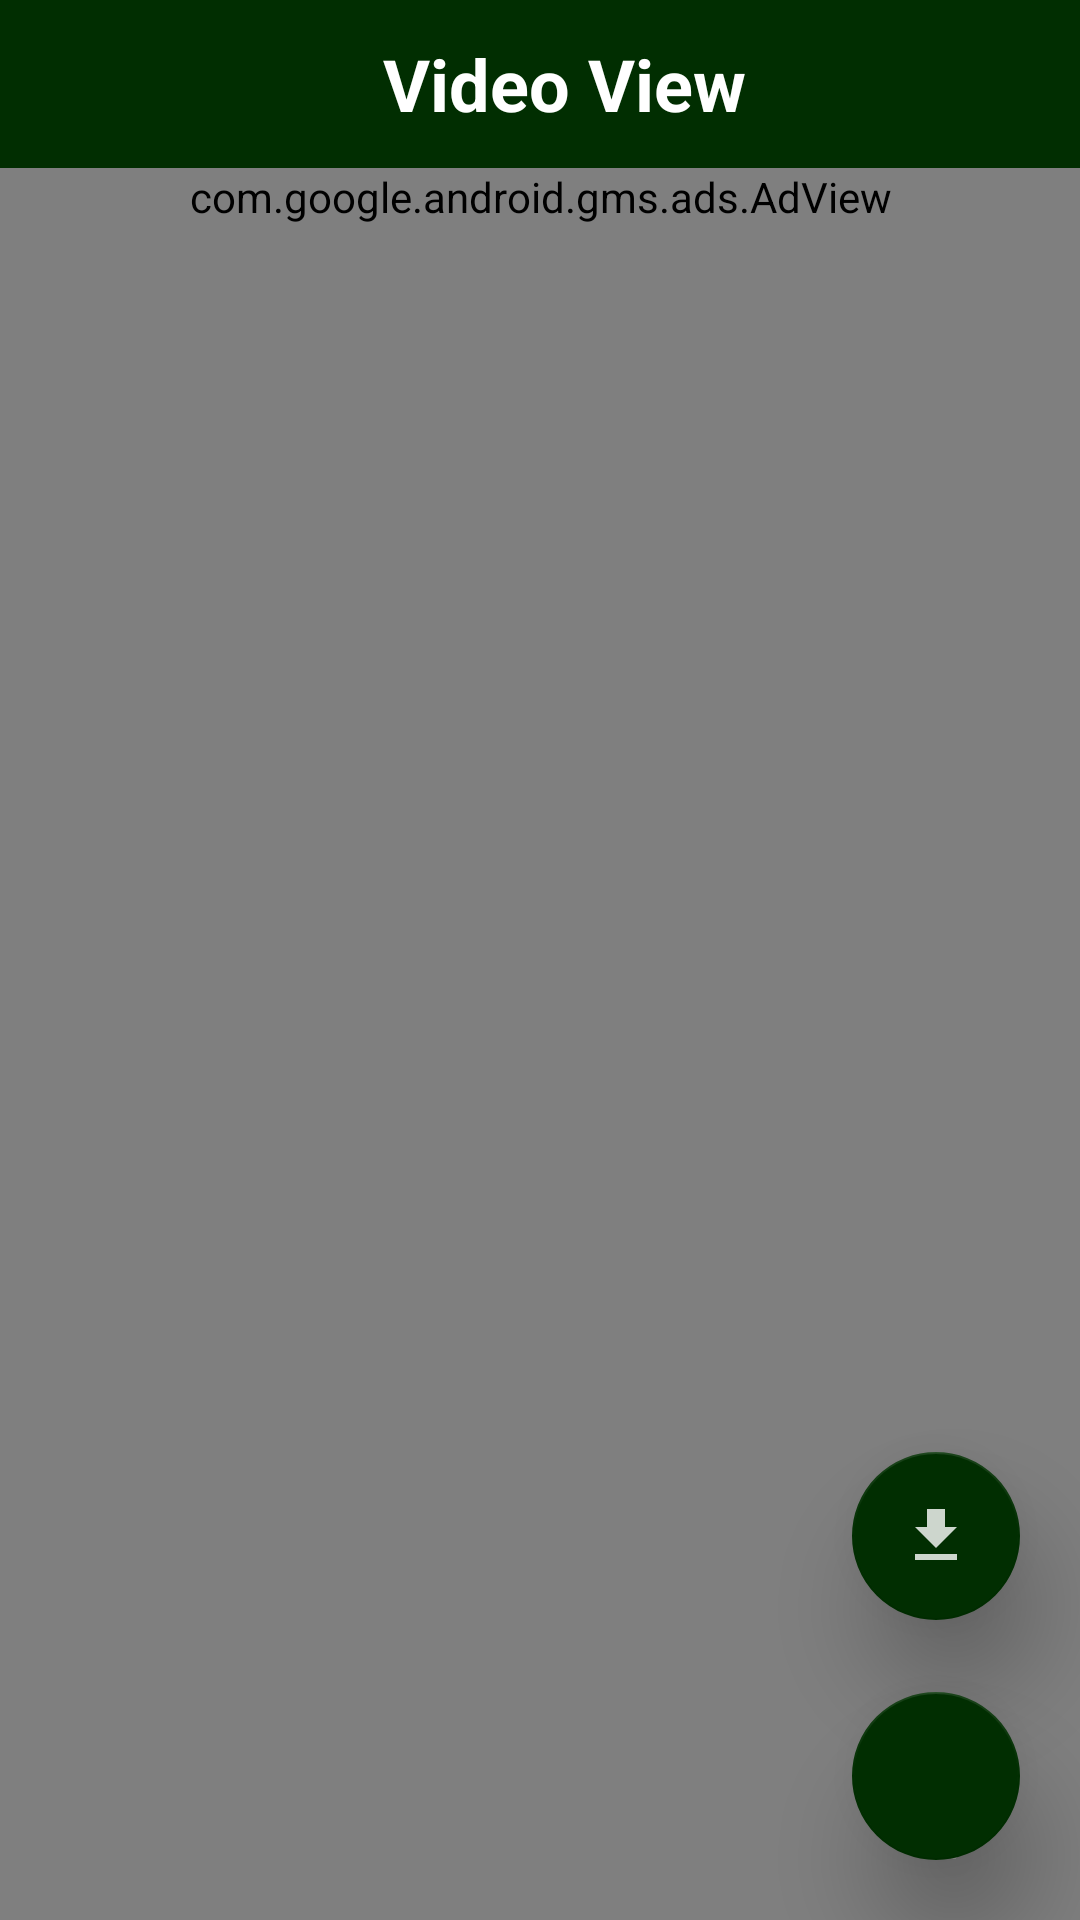

Icon click points for this 1080 x 1920 phone screenshot, format point (x, y):
download: point (936, 1536)
